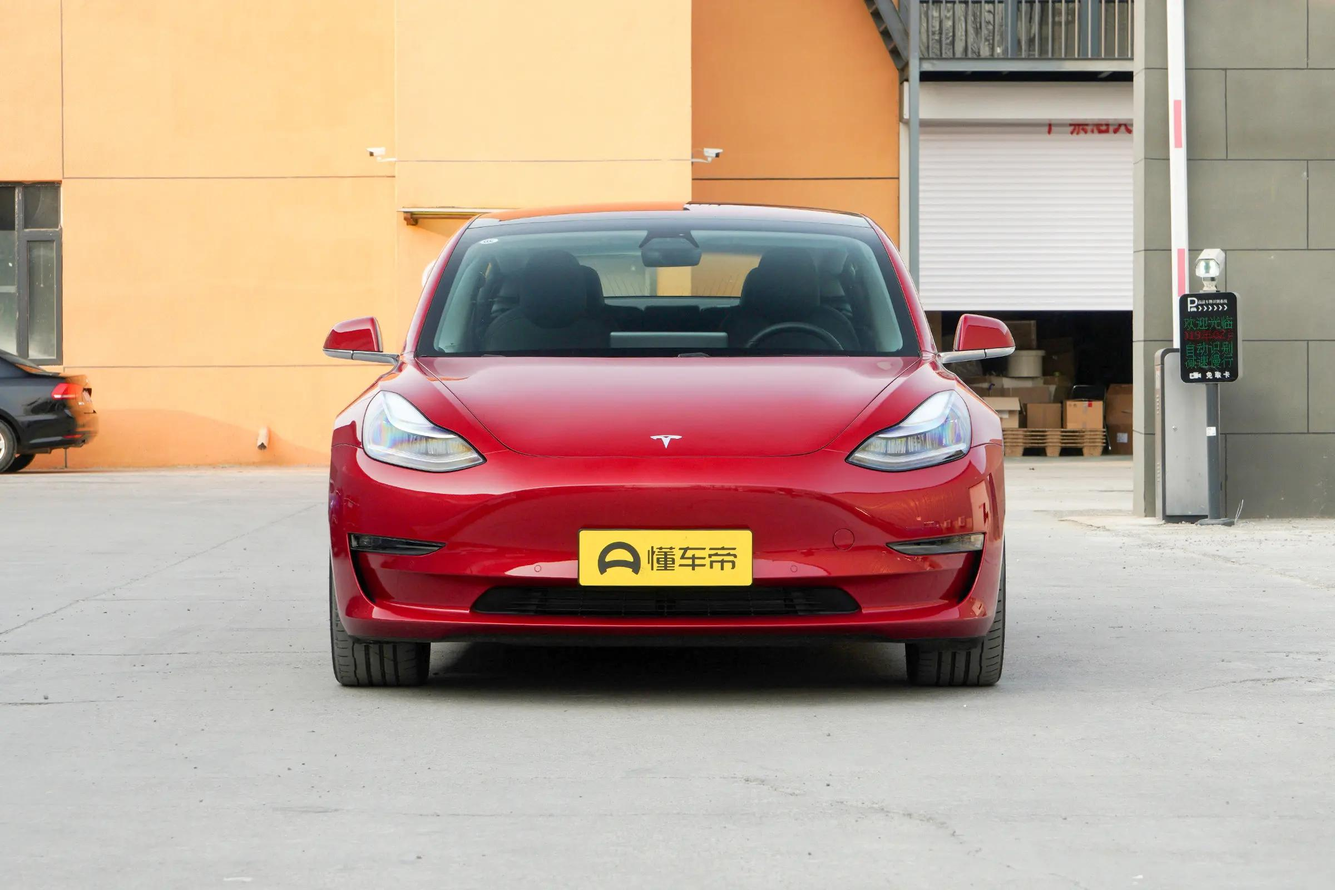Tesla: (650, 434, 683, 449)
